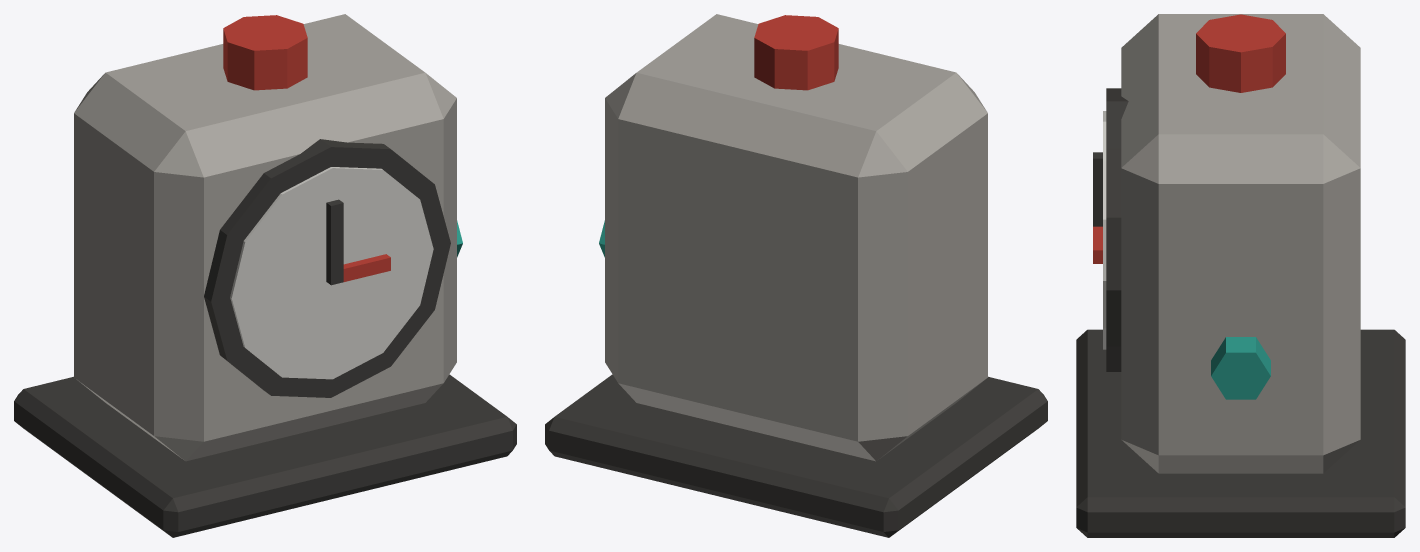
File: timer.fbx
The picture shows the model from 3 angles, left to right: view 1: azimuth 30°, elevation 25°; view 2: azimuth 150°, elevation 25°; view 3: azimuth 270°, elevation 25°; orthographic projection. The views are drawn at different scales.
Visible parts, largest first — view 1: timer; view 2: timer; view 3: timer.
Boxes of the visible parts, x1,y1,x2,y2 form: timer: [14, 14, 516, 537]; timer: [545, 14, 1047, 537]; timer: [1076, 14, 1405, 537].
Bounding box in the file's own units: 1.71 × 1.86 × 1.32.
